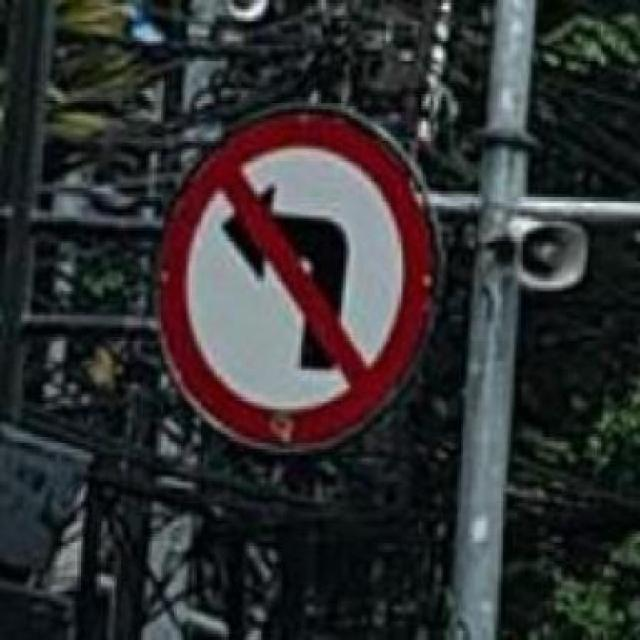left turn prohibited: (151, 107, 444, 448)
